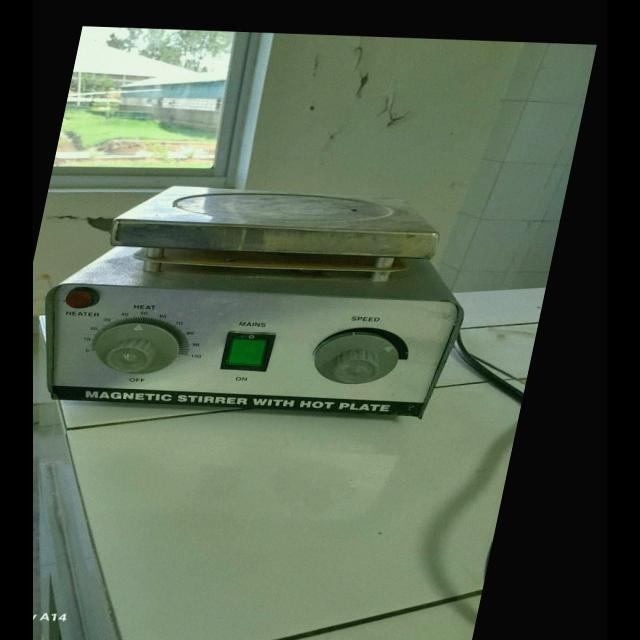Magnetic Stirrer: (44, 180, 498, 434)
